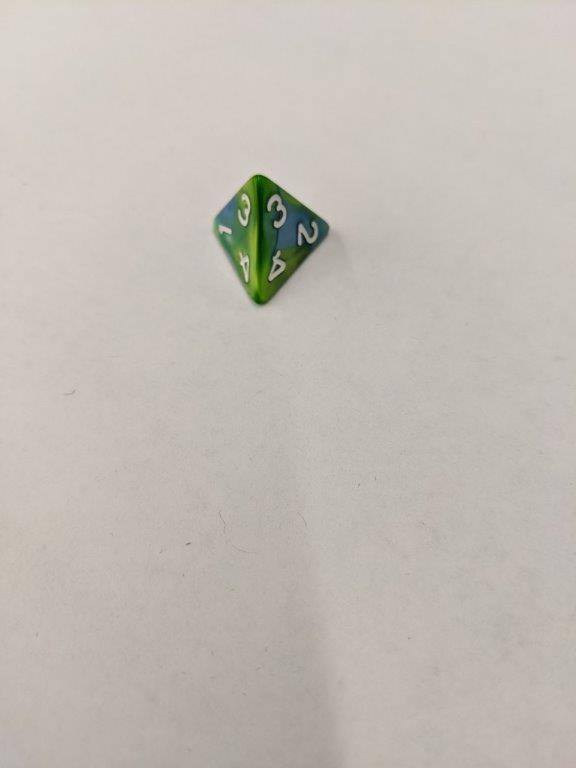d4-3: (208, 173, 331, 309)
